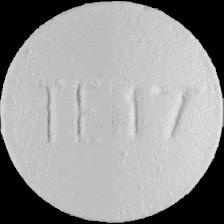42291-730: (0, 0, 224, 224)
